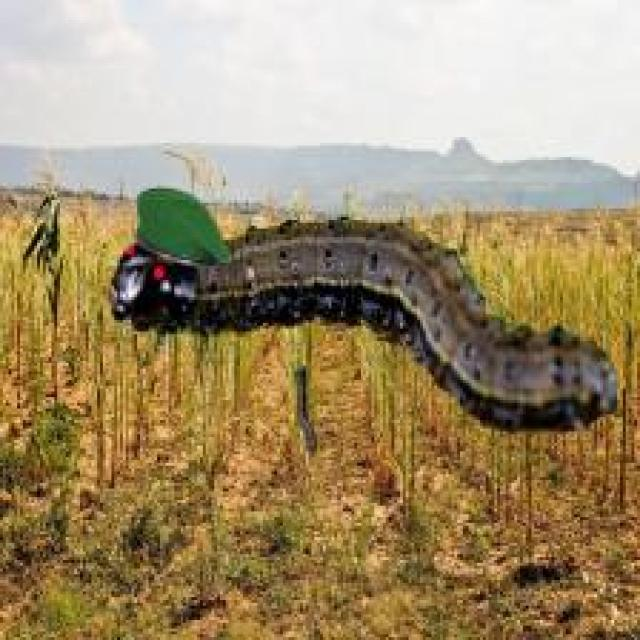Plaga: (102, 151, 614, 405)
